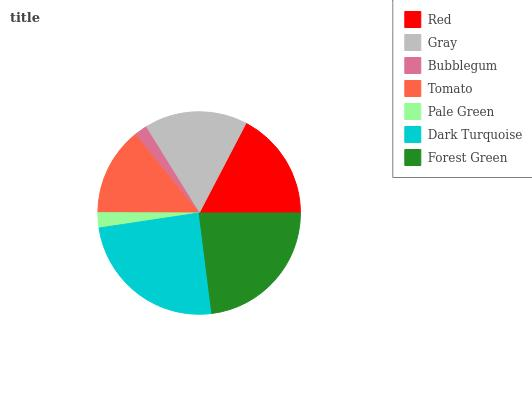legend: (392, 0, 532, 181)
sector: (97, 212, 212, 316), (148, 110, 248, 211), (200, 212, 301, 312), (199, 122, 301, 213), (96, 135, 199, 212), (136, 127, 200, 212)
